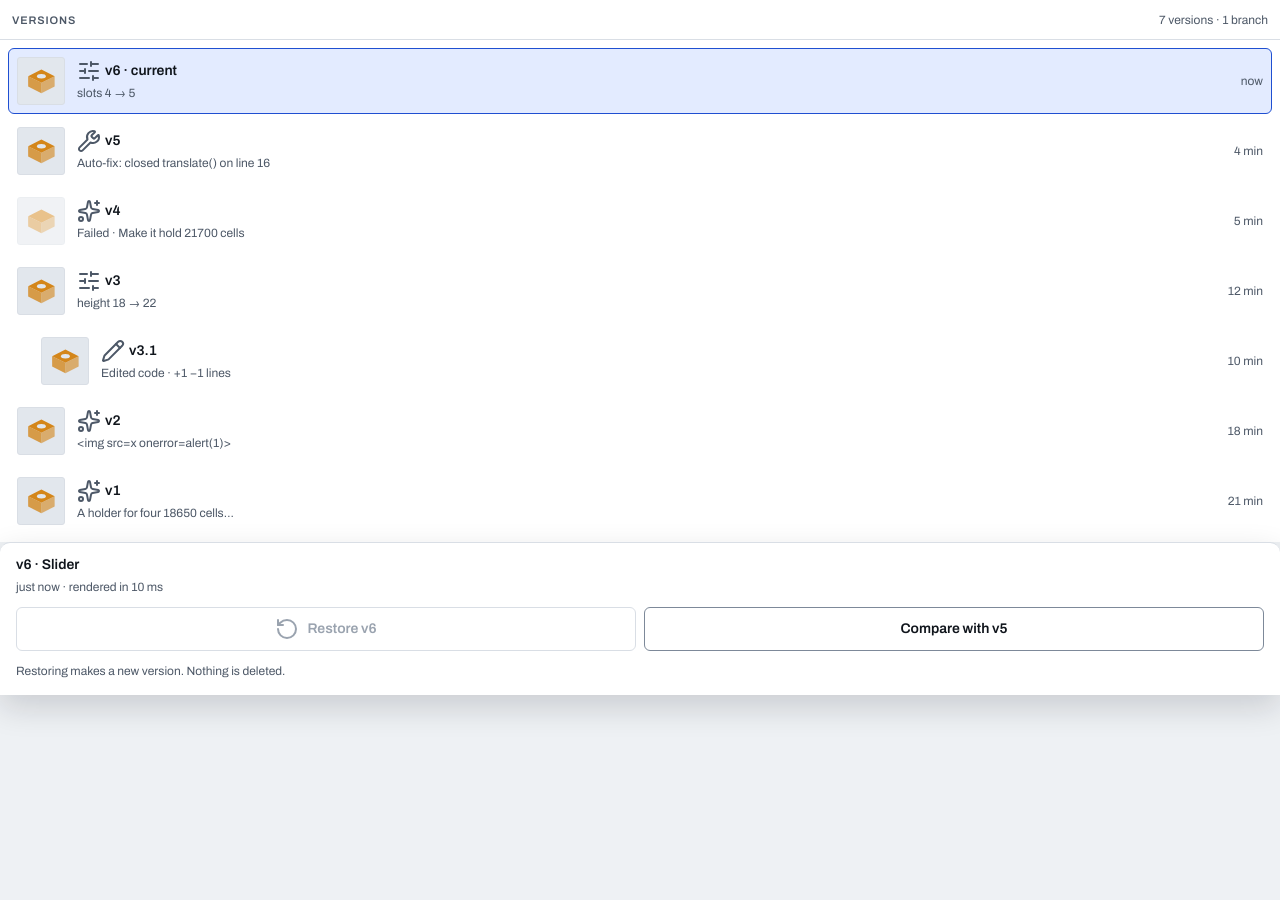
Scenario: on a phone › lists the versions with a sheet for the selected one, without the compare and preview columns
The image size is (1280, 900).
Expected: the text "v6 · Slider" is shown, [16,557,79,572]
Expected: the button "Restore v6" is disabled, [16,607,636,651]
Click the button "v5 Auto-fix: closed translate() on line 16 4 min". click: (41, 151)
box: [8,118,1272,184]
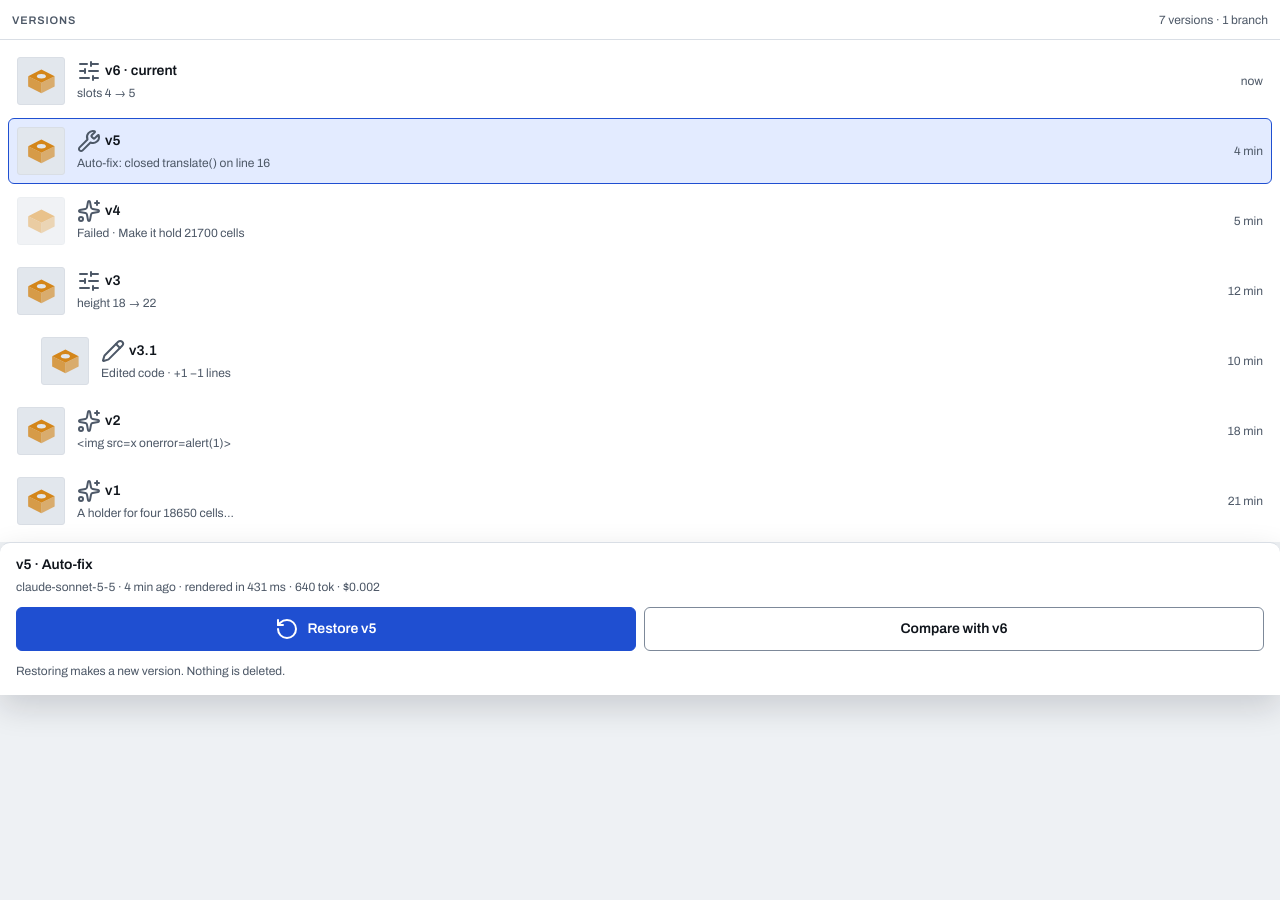
Expected: the text "v5 · Auto-fix" is shown, [16,557,93,572]
Expected: the button "Restore v5" is enabled, [16,607,636,651]
Expected: the button "Compare with v6" is shown, [644,607,1264,651]
